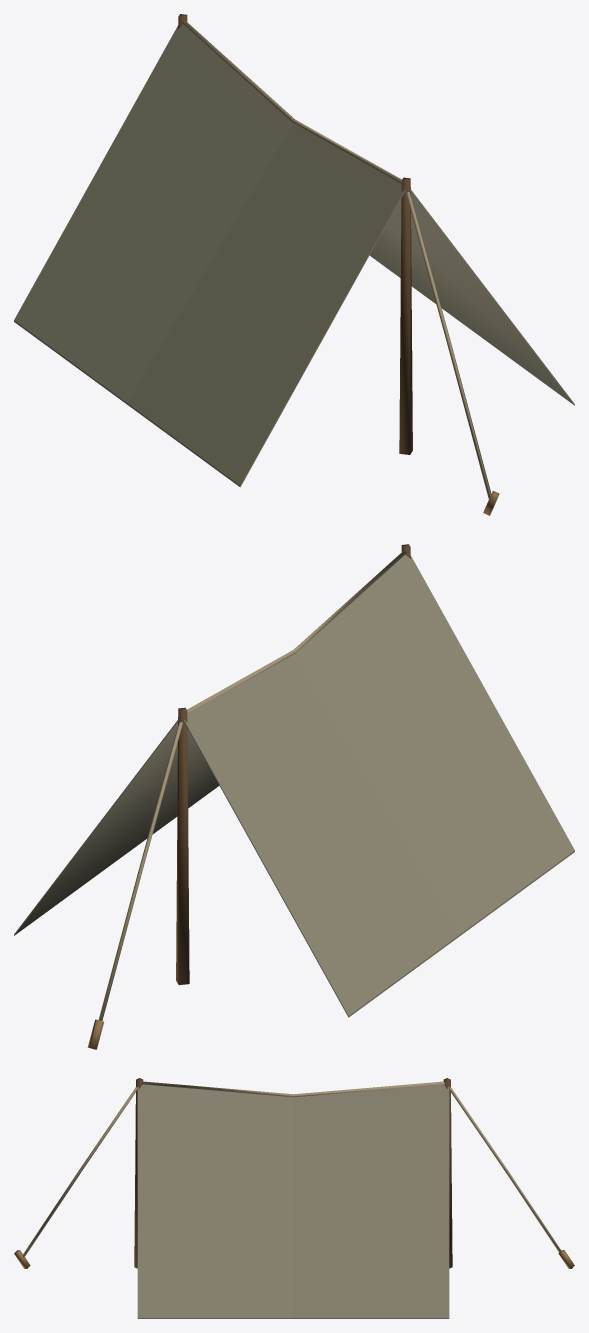
The model's file is hemp_ridge_tent_lod2.glb.
3 renders of one model, top to bottom at view 1: azimuth 30°, elevation 25°; view 2: azimuth 150°, elevation 25°; view 3: azimuth 270°, elevation 25°, orthographic. The views are drawn at different scales.
Visible parts, largest first — view 1: hemp_ridge_tent.001; view 2: hemp_ridge_tent.001; view 3: hemp_ridge_tent.001.
Boxes of the visible parts, bbox=[...] form: hemp_ridge_tent.001: bbox=[14, 14, 574, 515]; hemp_ridge_tent.001: bbox=[14, 544, 574, 1049]; hemp_ridge_tent.001: bbox=[14, 1078, 574, 1318].
Bounding box in the file's own units: 2.56 × 2.01 × 5.4.
